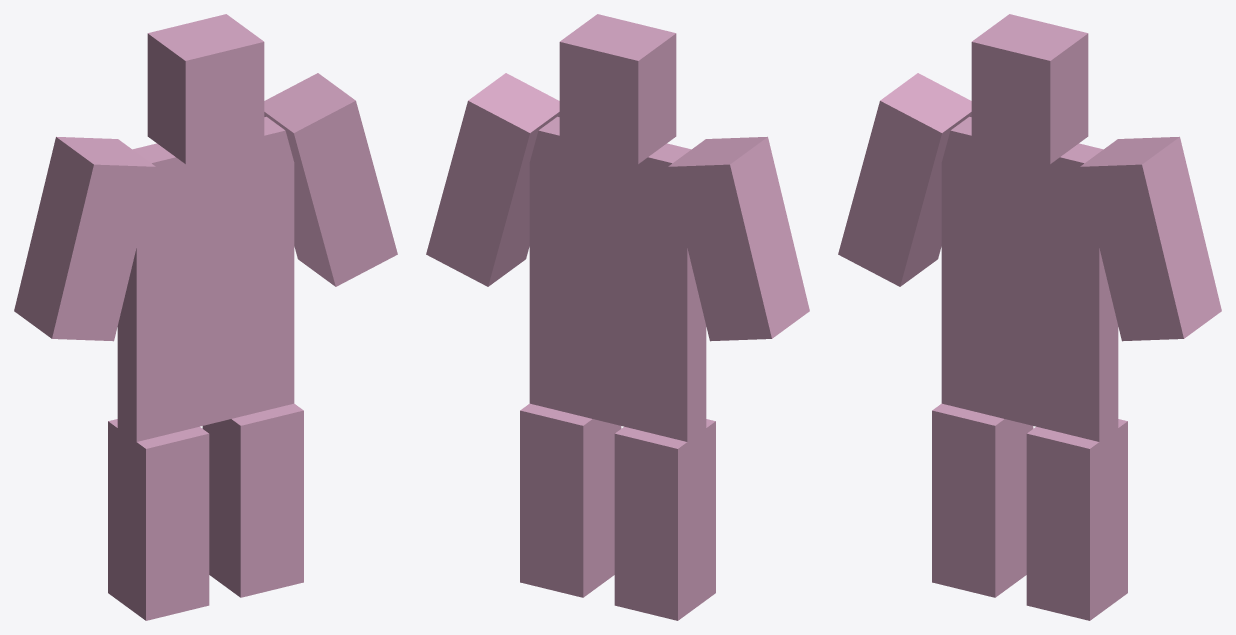
Rendered from VirusCarrier.fbx.
The picture shows the model from 3 angles, left to right: view 1: azimuth 30°, elevation 25°; view 2: azimuth 150°, elevation 25°; view 3: azimuth 330°, elevation 25°; orthographic projection.
Visible parts, largest first — view 1: Cube.001; view 2: Cube.001; view 3: Cube.001.
Part boxes in pixels (bbox=[...]): Cube.001: bbox=[14, 14, 397, 620]; Cube.001: bbox=[426, 14, 809, 620]; Cube.001: bbox=[838, 14, 1221, 620].
Bounding box in the file's own units: 105 × 160 × 20.
